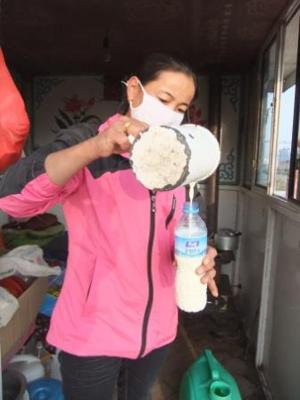person: (1, 50, 220, 400)
